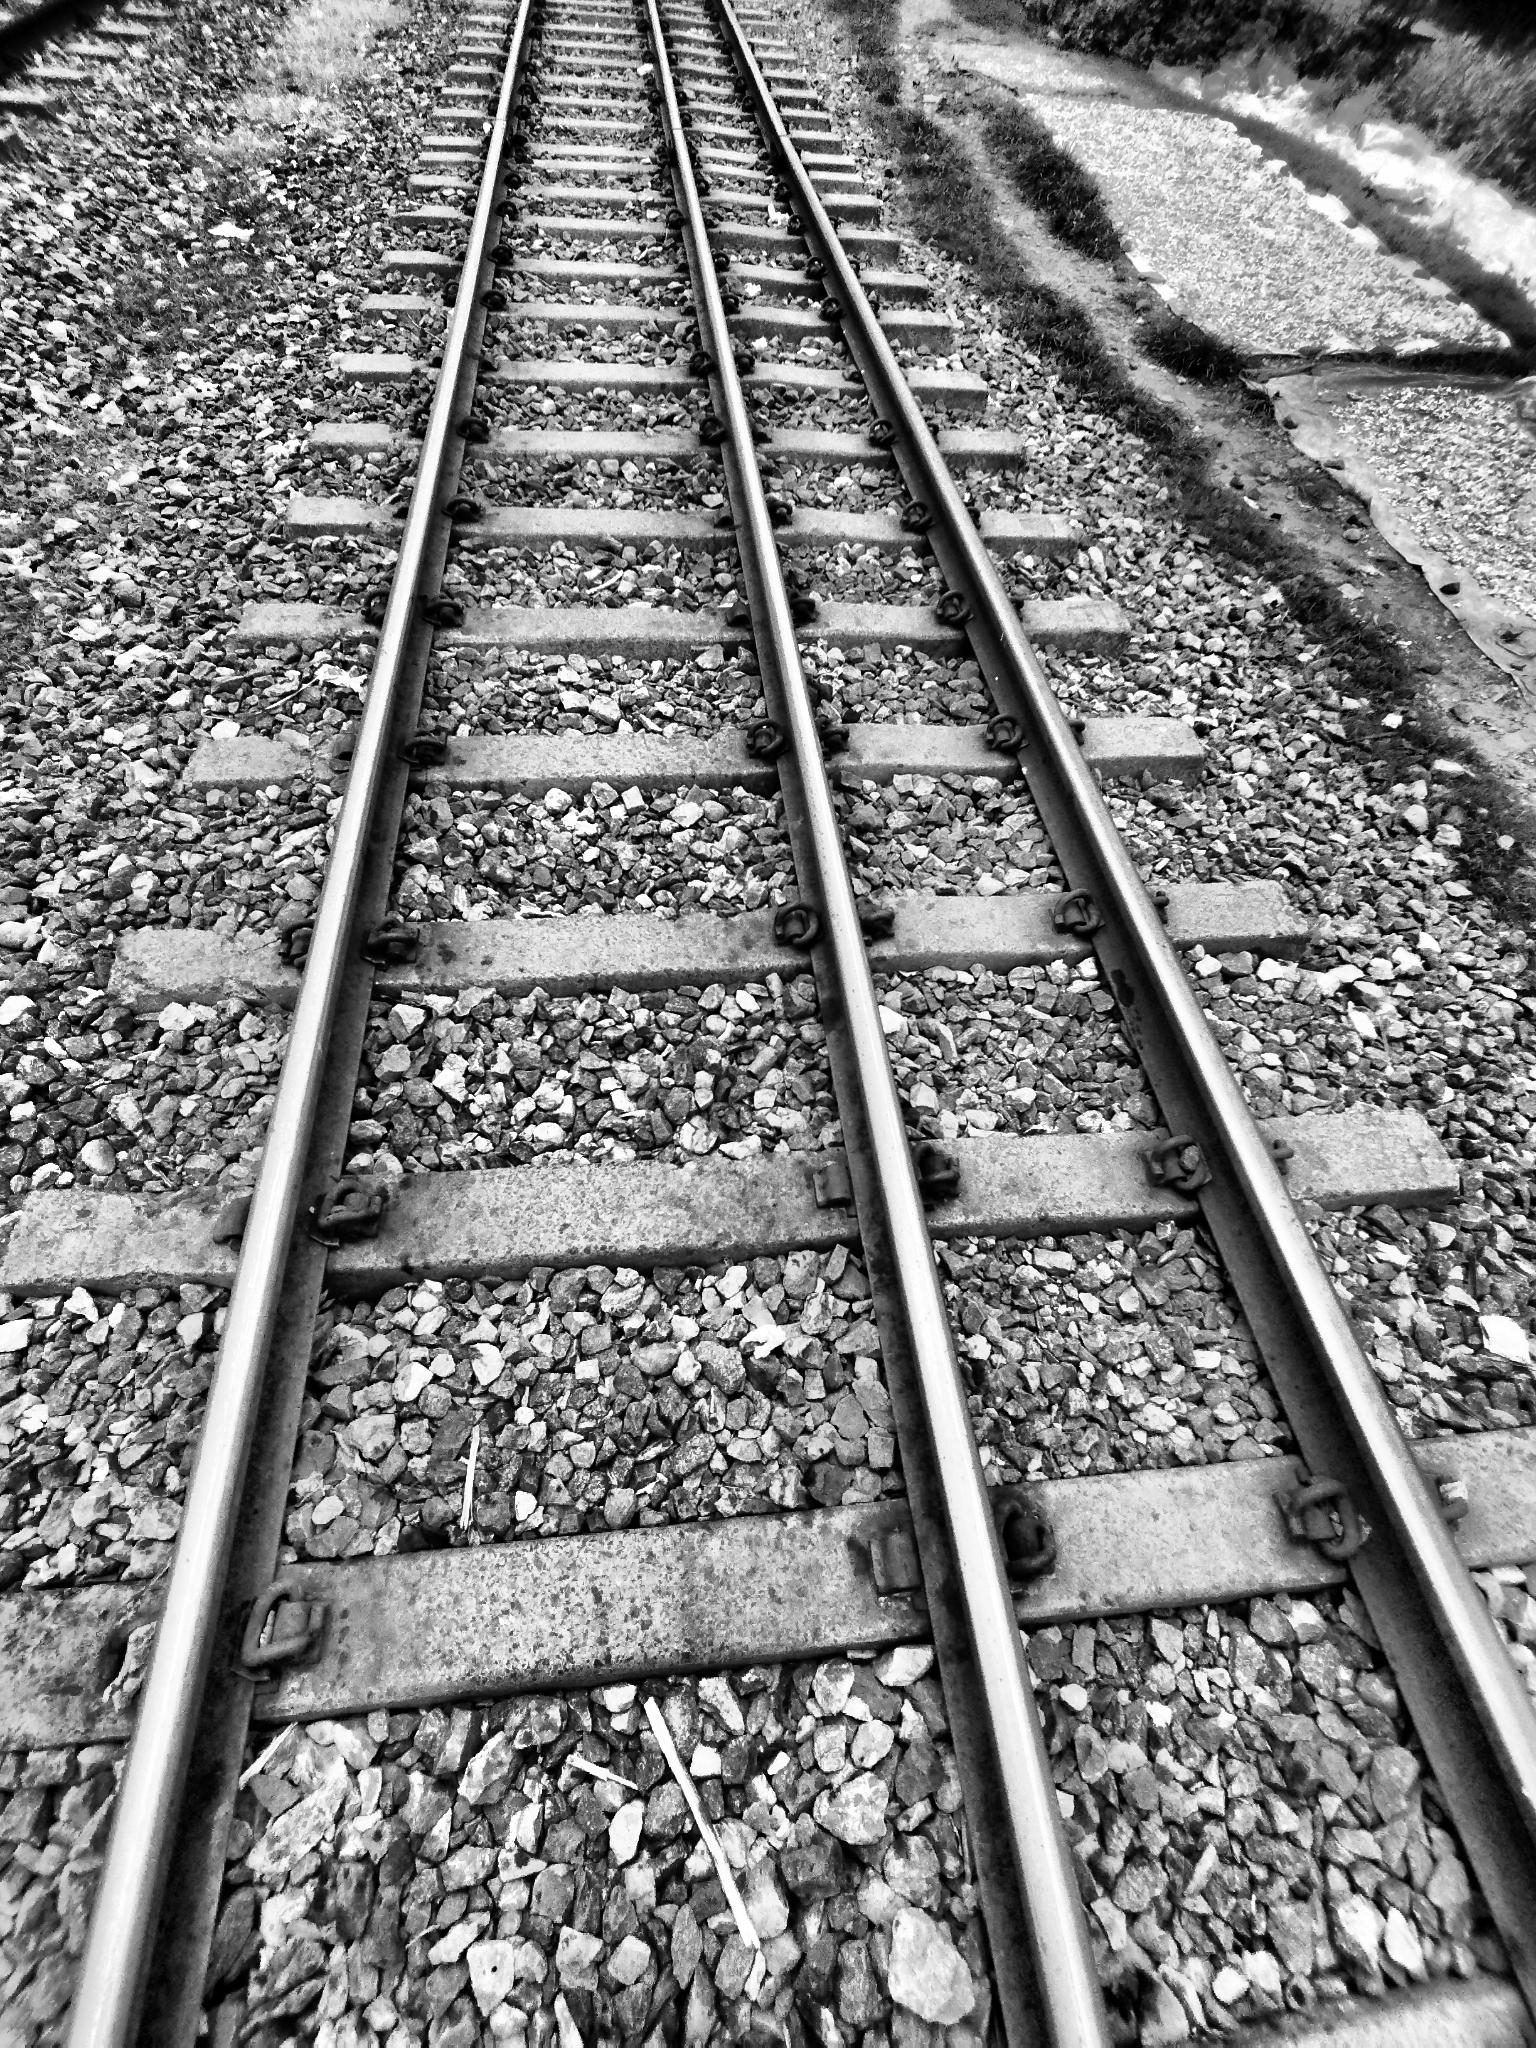Trash: (634, 1688, 784, 1964)
